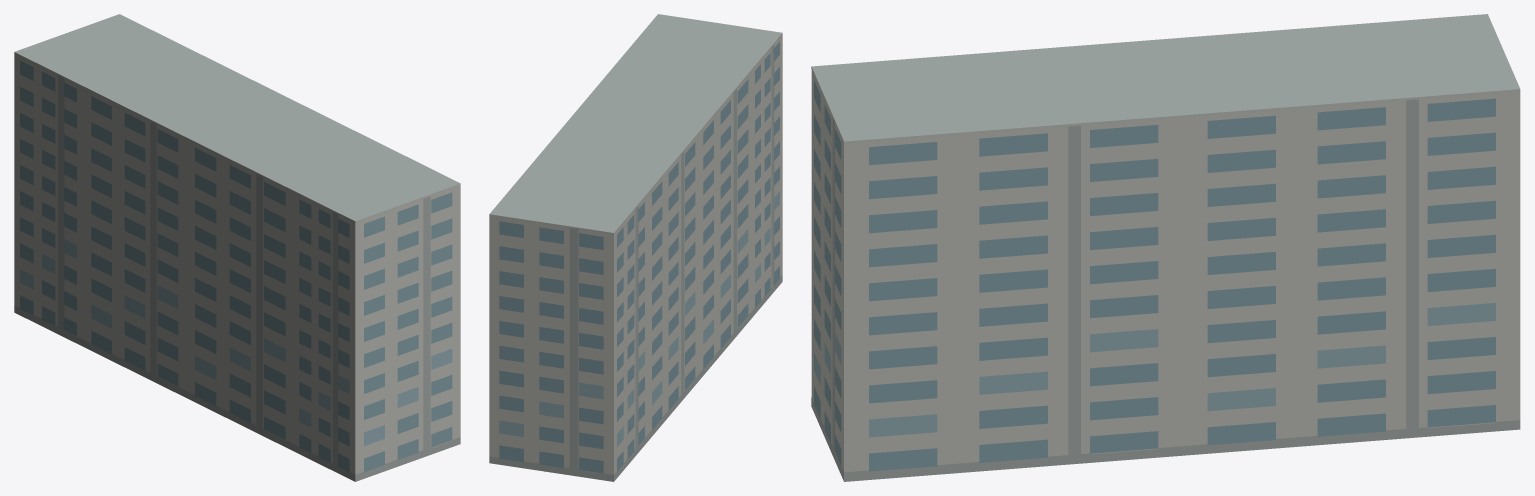
The model's file is residential-0d4bd9f1-9e3a-4a49-a459-b861c0b40567.glb.
3 renders of one model, left to right at view 1: azimuth 30°, elevation 25°; view 2: azimuth 150°, elevation 25°; view 3: azimuth 270°, elevation 25°, orthographic. The views are drawn at different scales.
Parts seen in each view (by area): view 1: residential-0d4bd9f1-9e3a-4a49-a459-b861c0b40567.tmp; view 2: residential-0d4bd9f1-9e3a-4a49-a459-b861c0b40567.tmp; view 3: residential-0d4bd9f1-9e3a-4a49-a459-b861c0b40567.tmp.
Boxes of the visible parts, box(x1,y1,x2,y2) form: residential-0d4bd9f1-9e3a-4a49-a459-b861c0b40567.tmp: box(14, 14, 460, 481); residential-0d4bd9f1-9e3a-4a49-a459-b861c0b40567.tmp: box(489, 14, 782, 481); residential-0d4bd9f1-9e3a-4a49-a459-b861c0b40567.tmp: box(811, 14, 1520, 481).
Size of the model in its own units: 28.15 by 35 by 66.08.
